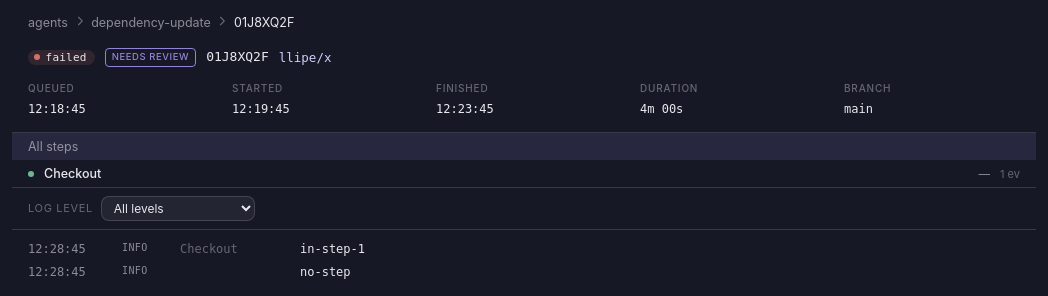
Test: run-detail page wiring › clicking a step in the panel narrows the log to that step's events (Story S-145, AC2, page-wired)
Expected: the text "in-step-1" is shown, left=300, top=242, right=365, bottom=256
Expected: the text "no-step" is shown, left=300, top=265, right=351, bottom=279
Step 1. Click the button "Checkout — 1 ev" → (73, 174), box left=12, top=160, right=1036, bottom=188
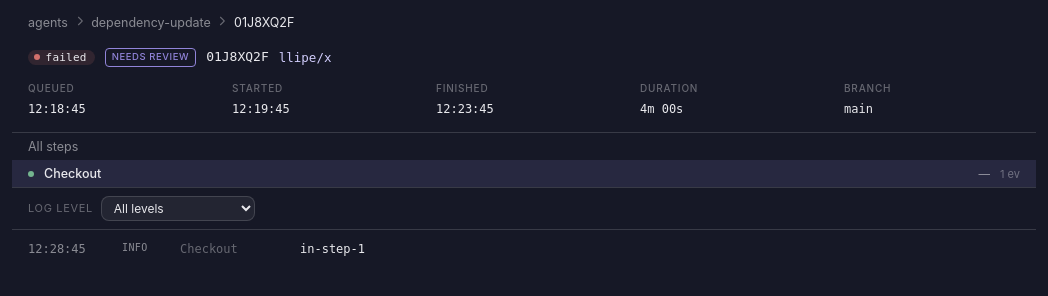
Expected: the text "in-step-1" is shown, left=300, top=242, right=365, bottom=256
Expected: the text "no-step" is gone
